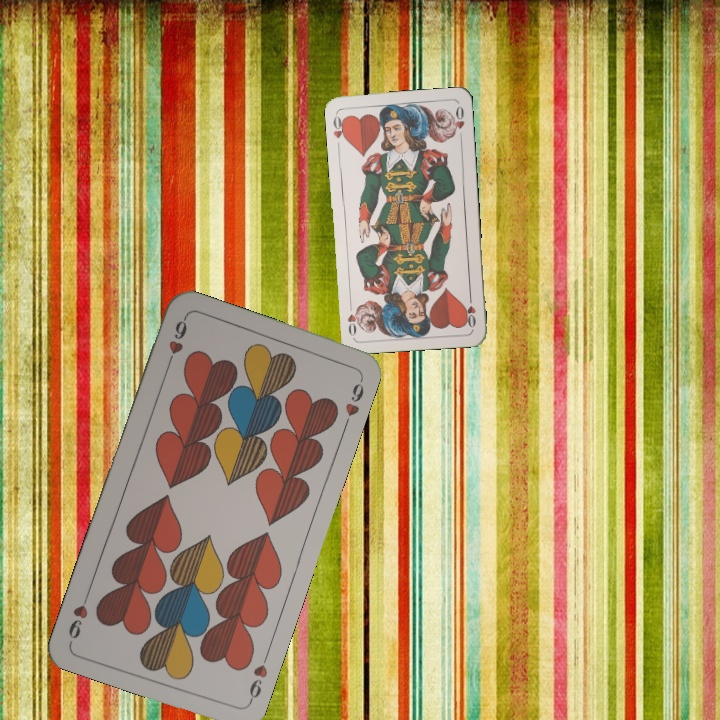H9: (162, 314, 190, 371), (245, 649, 272, 706)
HO: (461, 290, 478, 330), (329, 110, 349, 143)
